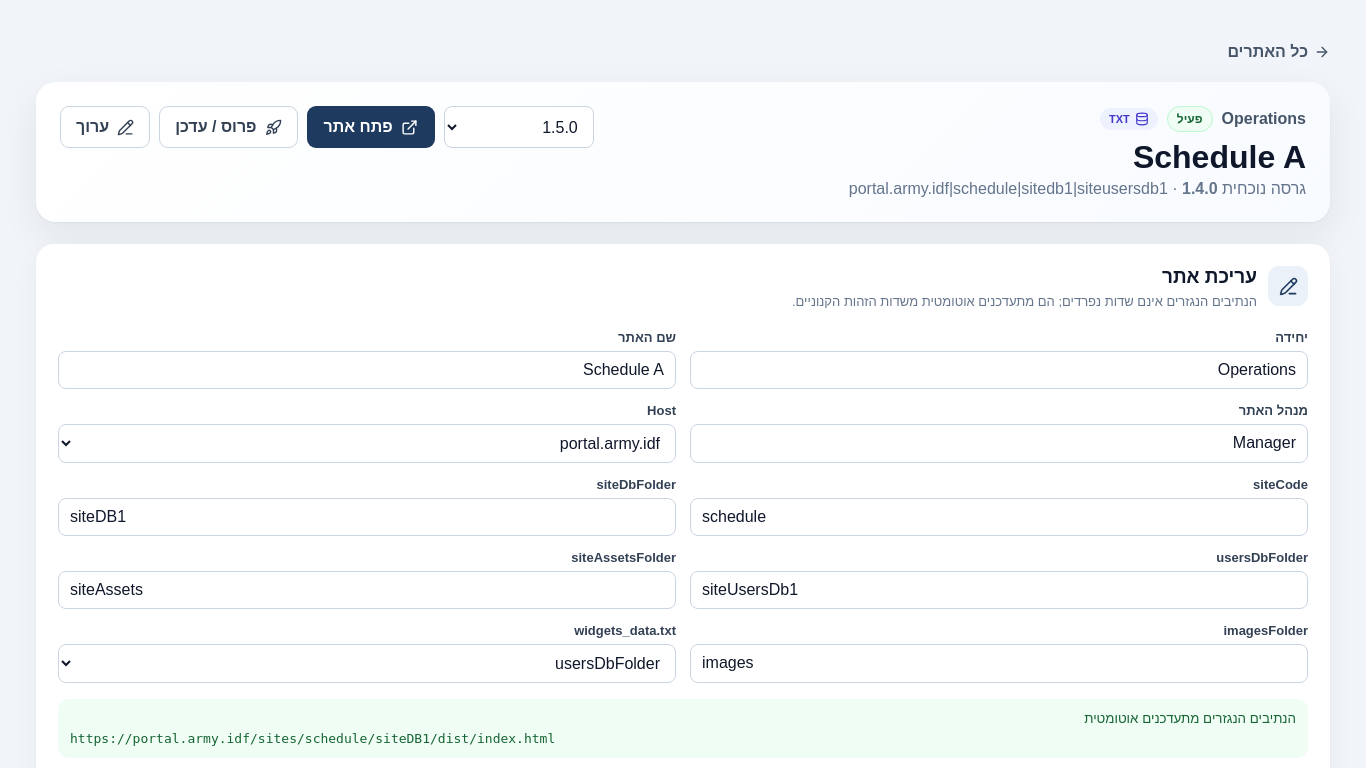
Site workspace route › updates the final URL preview immediately when an unlocked canonical field changes
Replace the text in the field labelled "siteDbFolder" with "siteDBFinance": (367, 516) [58,498,676,536]
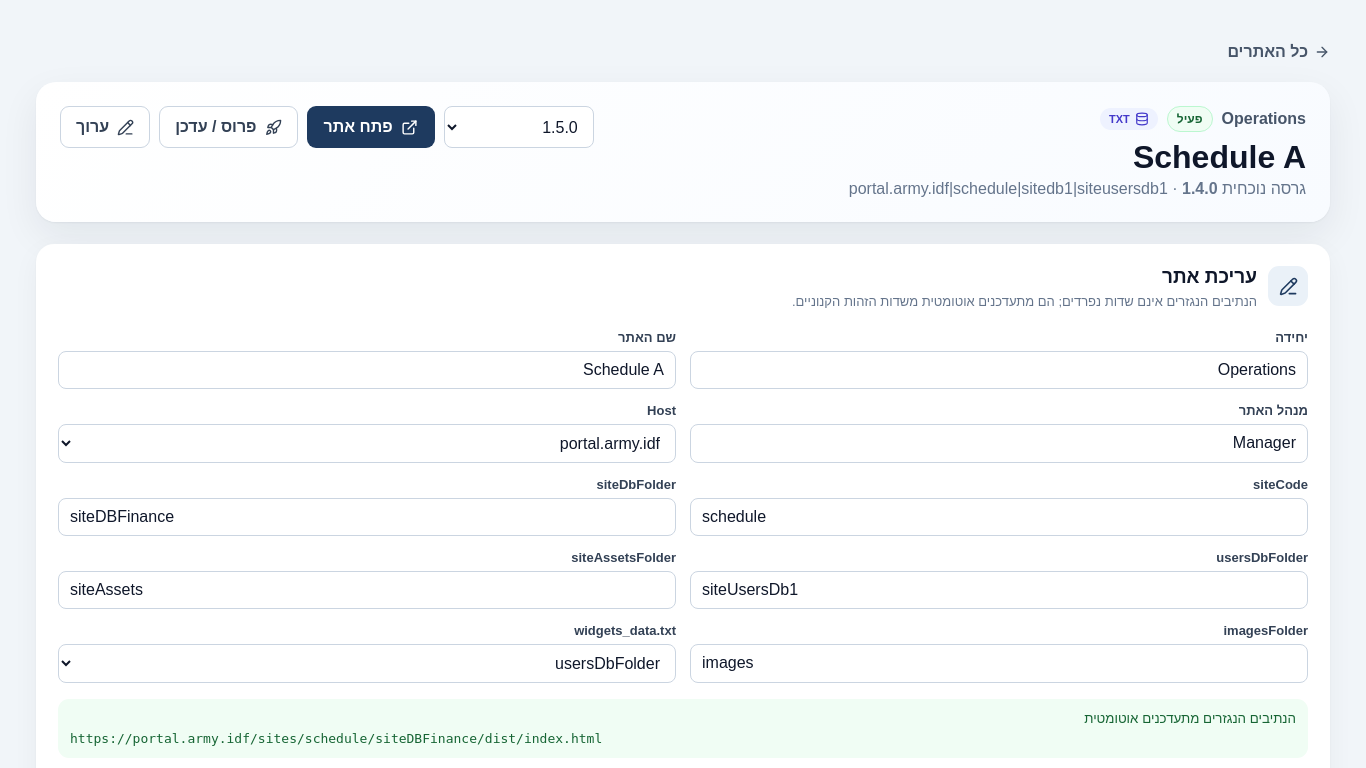
Expected: the text "https://portal.army.idf/sites/schedule/siteDBFinance/dist/index.html" is shown, [70,730,602,746]
